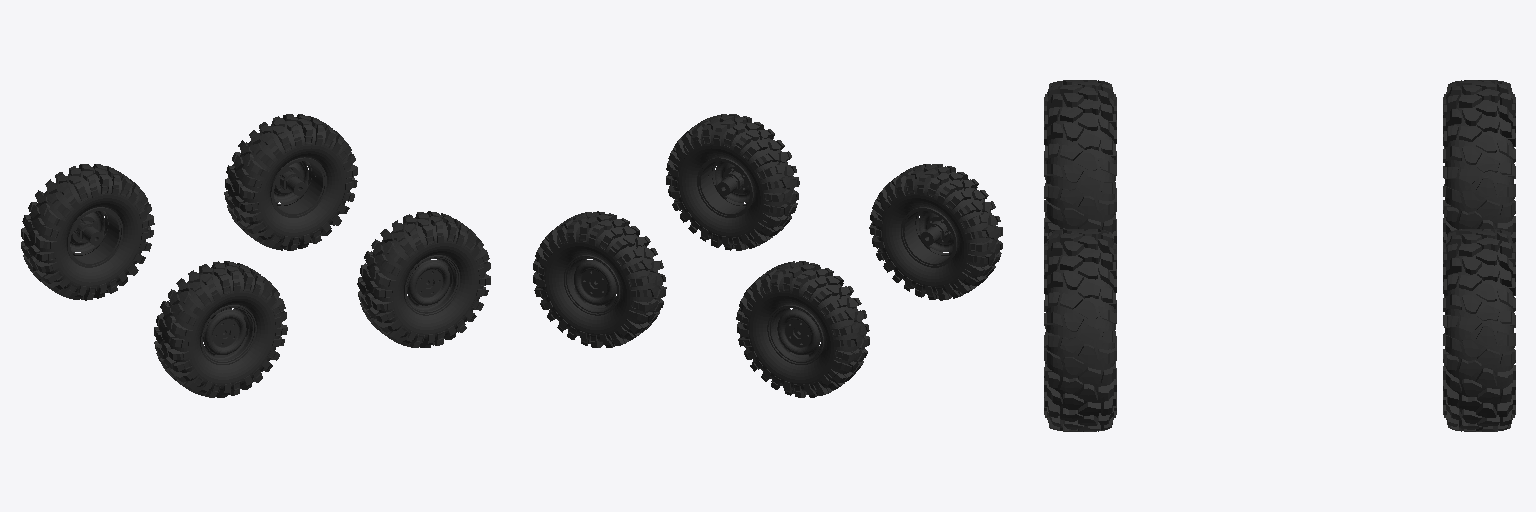
URDF robot description (Assem1):
<?xml version="1.0" encoding="utf-8" ?>
<!-- This URDF was automatically created by SolidWorks to URDF Exporter! Originally created by [author] ([email redacted]) 
     Commit Version: 1.6.0-4-g7f85cfe  Build Version: 1.6.7995.38578
     For more information, please see http://wiki.ros.org/sw_urdf_exporter -->
<robot name="Assem1" 	xmlns:sensor="http://playerstage.sourceforge.net/gazebo/xmlschema/#sensor"
                      xmlns:xacro="http://www.ros.org/wiki/xacro">
<!-- **************************************************** ROBOT BASE FOOTPRINT ****************************************************  -->
		<!-- Define the center of the main robot chassis projected on the ground -->	
		<link name="base_footprint"/>

		<!-- The base footprint of the robot is located underneath the chassis -->
		<joint name="base_joint" type="fixed">
		  <parent link="base_footprint"/>
		  <child link="base_link" />
		  <origin xyz="0 0 -0.0288" rpy="0 0 0" />
		</joint>

<!-- i nichego ne budu delat 
[author] loh-->

<!-- **************************************************** ROBOT BASE ****************************************************  -->

  <link name="base_link">
    <inertial>
      <origin xyz="0.0161576866905115 -0.0192589327035862 0.000714665078015524" rpy="0 0 0" />
      <mass value="0.525103778834961" />
      <inertia ixx="0.00112044217696078" ixy="-1.15172167773134E-06" ixz="2.13341258677709E-07" iyy="0.00190280158774292" iyz="7.96632481159502E-07" izz="0.000964425953794514" />
    </inertial>
  
    <visual>
      <origin
        xyz="0 0 0"
        rpy="0 0 0" />
      <geometry>
        <mesh
          filename="package://almond_sim/meshes/base_link.STL" />
      </geometry>
      <material
        name="">
        <color
          rgba="0.792156862745098 0.819607843137255 0.933333333333333 1" />
      </material>
    </visual>

    <collision>
      <origin
        xyz="0 0 0"
        rpy="0 0 0" />
      <geometry>
        <mesh
          filename="package://almond_sim/meshes/base_link.STL" />
      </geometry>
    </collision>
  </link>

<!-- **************************************************** BACK LEFT WHEEL LINK ****************************************************-->

  <link
    name="Bl_wheel_Link">
    <inertial>
      <origin
        xyz="-6.1195464144681E-07 -9.21550339011423E-07 -0.000487976344824892"
        rpy="0 0 0" />
      <mass
        value="0.0968940262146127" />
      <inertia
        ixx="9.4270285811499E-05"
        ixy="1.8887150627217E-09"
        ixz="-1.10162551975514E-08"
        iyy="9.42674466180449E-05"
        iyz="2.17095669013528E-10"
        izz="0.000164520319147756" />
    </inertial>
    <visual>
      <origin
        xyz="0 0 0"
        rpy="0 0 0" />
      <geometry>
        <mesh
          filename="package://almond_sim/meshes/Bl_wheel_Link.STL" />
      </geometry>
      <material
        name="">
        <color
          rgba="0.231372549019608 0.231372549019608 0.231372549019608 1" />
      </material>
    </visual>
    <collision>
      <origin
        xyz="0 0 0"
        rpy="0 0 0" />
      <geometry>
        <mesh
          filename="package://almond_sim/meshes/Bl_wheel_Link.STL" />
      </geometry>
    </collision>
  </link>

<!-- **************************************************** BACK LEFT WHEEL JOINT ****************************************************-->

  <joint
    name="Bl_wheel_Joint"
    type="revolute">
    <origin
      xyz="0.1134 -0.10829 -0.018992"
      rpy="-1.5708 -0.45883 0" />
    <parent
      link="base_link" />
    <child
      link="Bl_wheel_Link" />
    <axis
      xyz="0 -1 0" />
    <limit
      lower="0"
      upper="0"
      effort="0"
      velocity="0" />
  </joint>

<!-- ****************************************************  FRONT LEFT WHEEL LINK **************************************************** -->

  <link
   name="Fl_wheel_Link">
    <inertial>
      <origin
        xyz="-6.11954642293355E-07 -9.21550338917748E-07 -0.000487976344825086"
        rpy="0 0 0" />
      <mass
        value="0.0968940262146106" />
      <inertia
        ixx="9.42702858114982E-05"
        ixy="1.888715064348E-09"
        ixz="-1.10162551964617E-08"
        iyy="9.42674466180429E-05"
        iyz="2.17095668839328E-10"
        izz="0.000164520319147754" />
    </inertial>
    <visual>
      <origin
        xyz="0 0 0"
        rpy="0 0 0" />
      <geometry>
        <mesh
          filename="package://almond_sim/meshes/Fl_wheel_Link.STL" />
      </geometry>
      <material
        name="">
        <color
          rgba="0.231372549019608 0.231372549019608 0.231372549019608 1" />
      </material>
    </visual>
    <collision>
      <origin
        xyz="0 0 0"
        rpy="0 0 0" />
      <geometry>
        <mesh
          filename="package://almond_sim/meshes/Fl_wheel_Link.STL" />
      </geometry>
    </collision>
  </link>
  
<!-- ****************************************************  FRONT LEFT WHEEL JOINT **************************************************** -->

  <joint
   name="Fl_wheel_Joint"
    type="revolute">
    <origin
      xyz="-0.076597 -0.10829 -0.018992"
      rpy="1.5708 0.45883 -3.1416" />
    <parent
      link="base_link" />
    <child
      link="Fl_wheel_Link" />
    <axis
      xyz="0 -1 0" />
    <limit
      lower="0"
      upper="0"
      effort="0"
      velocity="0" />
  </joint>
  
<!-- **************************************************** FRONT RIGHT WHEEL LINK **************************************************** -->

  <link
    name="Fr_wheel_Link">
    <inertial>
      <origin
        xyz="-6.11954641835388E-07 -9.21550339753885E-07 -0.000487976344824947"
        rpy="0 0 0" />
      <mass
        value="0.096894026214606" />
      <inertia
        ixx="9.42702858114937E-05"
        ixy="1.8887150642057E-09"
        ixz="-1.10162551964773E-08"
        iyy="9.42674466180381E-05"
        iyz="2.17095668611523E-10"
        izz="0.000164520319147745" />
    </inertial>
    <visual>
      <origin
        xyz="0 0 0"
        rpy="0 0 0" />
      <geometry>
        <mesh
          filename="package://almond_sim/meshes/Fr_wheel_Link.STL" />
      </geometry>
      <material
        name="">
        <color
          rgba="0.231372549019608 0.231372549019608 0.231372549019608 1" />
      </material>
    </visual>
    <collision>
      <origin
        xyz="0 0 0"
        rpy="0 0 0" />
      <geometry>
        <mesh
          filename="package://almond_sim/meshes/Fr_wheel_Link.STL" />
      </geometry>
    </collision>
  </link>

<!-- **************************************************** FRONT RIGHT WHEEL JOINT **************************************************** -->

  <joint
    name="Fr_wheel_Joint"
    type="revolute">
    <origin
      xyz="-0.076597 0.10711 -0.018992"
      rpy="-1.5708 -0.45883 3.1416" />
    <parent
      link="base_link" />
    <child
      link="Fr_wheel_Link" />
    <axis
      xyz="0 1 0" />
    <limit
      lower="0"
      upper="0"
      effort="0"
      velocity="0" />
  </joint>

<!-- **************************************************** BACK RIGHT WHEEL LINK **************************************************** -->

  <link
    name="Br_wheel_Link">
    <inertial>
      <origin
        xyz="-6.11954641183132E-07 -9.21550338928157E-07 -0.000487976344824823"
        rpy="0 0 0" />
      <mass
        value="0.0968940262146113" />
      <inertia
        ixx="9.42702858114979E-05"
        ixy="1.88871506202036E-09"
        ixz="-1.10162551984347E-08"
        iyy="9.42674466180435E-05"
        iyz="2.17095668399663E-10"
        izz="0.000164520319147754" />
    </inertial>
    <visual>
      <origin
        xyz="0 0 0"
        rpy="0 0 0" />
      <geometry>
        <mesh
          filename="package://almond_sim/meshes/Br_wheel_Link.STL" />
      </geometry>
      <material
        name="">
        <color
          rgba="0.231372549019608 0.231372549019608 0.231372549019608 1" />
      </material>
    </visual>
    <collision>
      <origin
        xyz="0 0 0"
        rpy="0 0 0" />
      <geometry>
        <mesh
          filename="package://almond_sim/meshes/Br_wheel_Link.STL" />
      </geometry>
    </collision>
  </link>

<!-- **************************************************** BACK RIGHT WHEEL JOINT **************************************************** -->
  
  <joint
    name="Br_wheel_Joint"
    type="revolute">
    <origin
      xyz="0.1134 0.10711 -0.018992"
      rpy="1.5708 0.45883 0" />
    <parent
      link="base_link" />
    <child
      link="Br_wheel_Link" />
    <axis
      xyz="0 1 0" />
    <limit
      lower="0"
      upper="0"
      effort="0"
      velocity="0" />
  </joint>
  
<!-- **************************************************** Skid Steering Drive **************************************************** -->

 <!-- <gazebo>
  <plugin name="skid_steer_drive_controller" filename="libgazebo_ros_skid_steer_drive.so">
    <updateRate>100.0</updateRate>
    <robotNamespace>[author]_ebach_nihuia_ne_ob]esnil</robotNamespace>
    <leftFrontJoint>fl_wheel_joint</leftFrontJoint>
    <rightFrontJoint>fr_wheel_joint</rightFrontJoint>
    <leftRearJoint>bl_wheel_joint</leftRearJoint>
    <rightRearJoint>br_wheel_joint</rightRearJoint>
    <wheelSeparation>0.4</wheelSeparation>
    <wheelDiameter>0.215</wheelDiameter>
    <robotBaseFrame>base_link</robotBaseFrame>
    <torque>1</torque>
    <topicName>cmd_vel</topicName>
    <broadcastTF>false</broadcastTF>
  </plugin>
</gazebo> -->

<!-- **************************************************** Skid Steering Drive **************************************************** -->

<!-- <gazebo>
    <plugin name="differential_drive_controller" filename="libgazebo_ros_diff_drive.so">
      <alwaysOn>true</alwaysOn>
      <updateRate>30</updateRate>
          <legacyMode>false</legacyMode>
      <leftJoint>fl_wheel_joint</leftJoint>
      <rightJoint>fr_wheel_joint</rightJoint>
      <wheelSeparation>0.25</wheelSeparation>
      <wheelDiameter>0.28</wheelDiameter>
      <torque>10</torque>
      <commandTopic>cmd_vel</commandTopic>
      <odometryTopic>odom</odometryTopic>
      <odometryFrame>odom</odometryFrame>
      <robotBaseFrame>base_link</robotBaseFrame>
      <rosDebugLevel>1</rosDebugLevel>
      <publishWheelTF>true</publishWheelTF>
      <publishWheelJointState>true</publishWheelJointState>
      <wheelTorque>20</wheelTorque>
    </plugin>
  </gazebo> -->



   <!-- **************************************************** LIDAR PLUGIN ****************************************************
	<joint name="hokuyo_joint" type="fixed">
    <axis xyz="0 1 0" />
    <origin xyz="0 0 ${height3 - axel_offset/2}" rpy="0 0 0"/>
    <parent link="link3"/>
    <child link="hokuyo_link"/>
  </joint>
  <link name="hokuyo_link">
    <collision>
      <origin xyz="0 0 0" rpy="0 0 0"/>
      <geometry>
    <box size="0.1 0.1 0.1"/>
      </geometry>
    </collision>
    <visual>
      <origin xyz="0 0 0" rpy="0 0 0"/>
      <geometry>
        <mesh filename="package://almond_sim/meshes/lidar.dae"/>
      </geometry>
    </visual>
    <inertial>
      <mass value="1e-5" />
      <origin xyz="0 0 0" rpy="0 0 0"/>
      <inertia ixx="1e-6" ixy="0" ixz="0" iyy="1e-6" iyz="0" izz="1e-6" />
    </inertial>
  </link> -->

   <!-- **************************************************** IMU **************************************************** -->
:
  <gazebo>
    <plugin name="imu_plugin" filename="libgazebo_ros_imu.so">
      <alwaysOn>true</alwaysOn>
      <bodyName>base_footprint</bodyName>
      <topicName>imu</topicName>
      <serviceName>imu_service</serviceName>
      <gaussianNoise>0.0</gaussianNoise>
      <updateRate>20.0</updateRate>
    </plugin>
  </gazebo>

    <gazebo>
		<plugin name="differential_drive_controller" filename="libgazebo_ros_diff_drive.so">
		  <!-- <updateRate>${update_rate}</updateRate> -->
		  <leftJoint>fl_wheel_joint</leftJoint>
		  <rightJoint>fr_wheel_joint</rightJoint>
		  <wheelSeparation>0.5380</wheelSeparation>
		  <wheelDiameter>0.2410</wheelDiameter>
		  <wheelAcceleration>1.0</wheelAcceleration>
		  <wheelTorque>20</wheelTorque>
		  <commandTopic>cmd_vel</commandTopic>
		  <odometryTopic>odom</odometryTopic>
		  <odometryFrame>odom</odometryFrame>
		  <robotBaseFrame>base_footprint</robotBaseFrame>
		  <odometrySource>1</odometrySource>
		  <publishWheelTF>true</publishWheelTF>
		  <publishOdom>true</publishOdom>
		  <publishWheelJointState>true</publishWheelJointState>
		  <legacyMode>false</legacyMode>
		</plugin> 
	</gazebo>

</robot>

--- Render facts (derived) ---
3 views of the same robot in one strip: view 1: azimuth 30°, elevation 25°; view 2: azimuth 150°, elevation 25°; view 3: azimuth 270°, elevation 25° (orthographic).
Model Assem1 with 6 links and 5 joints (4 revolute, 1 fixed), rooted at base_footprint, posed all joints at 0.
Visible links, largest first — view 1: Fl_wheel_Link, Fr_wheel_Link, Bl_wheel_Link, Br_wheel_Link; view 2: Bl_wheel_Link, Br_wheel_Link, Fl_wheel_Link, Fr_wheel_Link; view 3: Bl_wheel_Link, Br_wheel_Link, Fl_wheel_Link, Fr_wheel_Link.
Link boxes in pixels (x1,y1,x2,y2): Fl_wheel_Link: (154,261,287,397); Fr_wheel_Link: (21,164,154,300); Bl_wheel_Link: (357,211,490,347); Br_wheel_Link: (224,114,357,250); Bl_wheel_Link: (666,114,799,250); Br_wheel_Link: (533,211,666,347); Fl_wheel_Link: (869,164,1002,300); Fr_wheel_Link: (736,261,869,397); Bl_wheel_Link: (1044,229,1116,431); Br_wheel_Link: (1443,229,1515,431); Fl_wheel_Link: (1044,80,1116,244); Fr_wheel_Link: (1443,80,1515,244).
Size in the robot's own frame: 0.3 by 0.2544 by 0.11 metres.
Meshes: 5 distinct files referenced, 4 mesh visuals loaded (4 binary STL); not drawn: 1 (reference not matched to a file when rendering).
